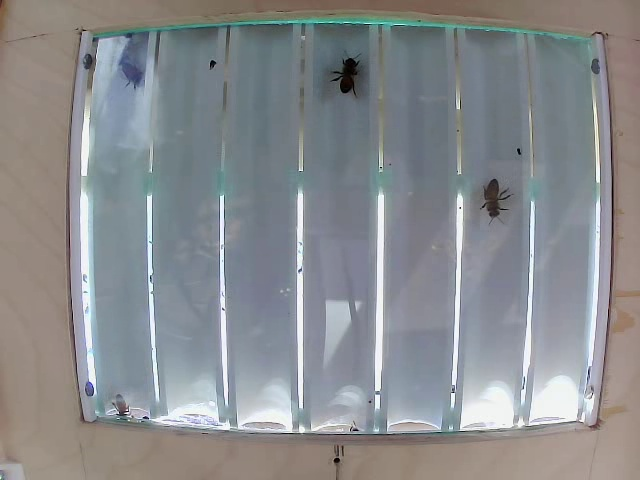bee: (322, 53, 365, 96), (473, 177, 504, 214)
